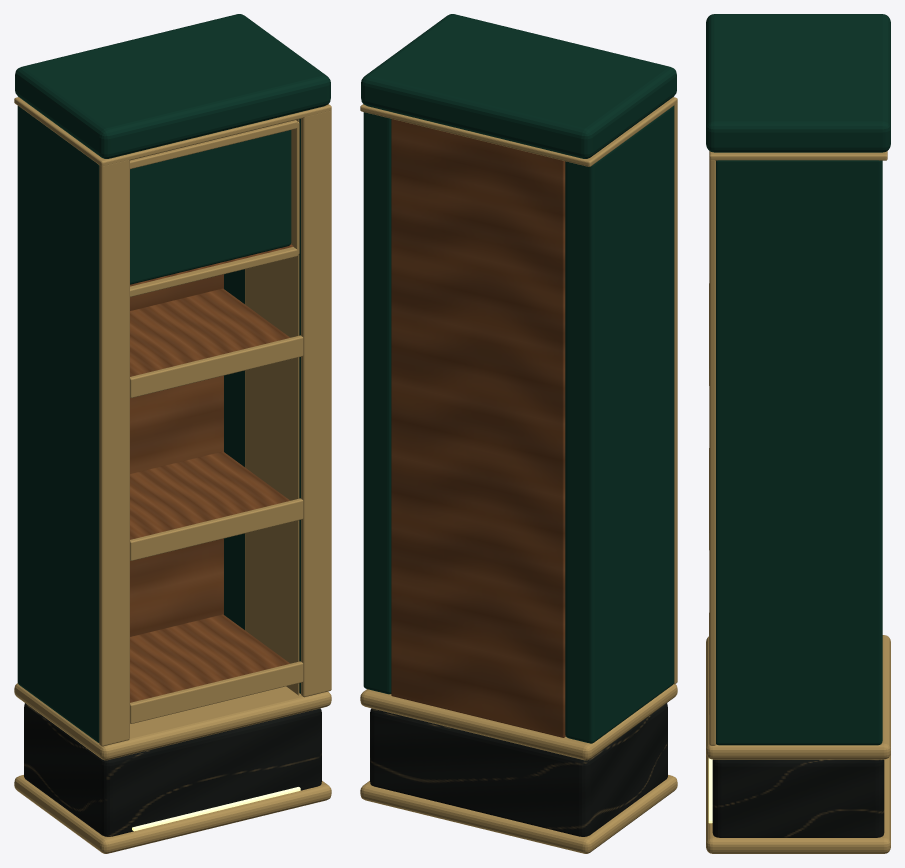
3 renders of one model, left to right at view 1: azimuth 30°, elevation 25°; view 2: azimuth 150°, elevation 25°; view 3: azimuth 270°, elevation 25°, orthographic.
Parts seen in each view (by area): view 1: cabinet_left_pillar, cabinet_crown, cabinet_stone_base, brand_header_panel, trim_left_front, trim_right_front, trim_right_inner, cabinet_back, shelf_3, shelf_2, shelf_1, trim_base_top (+10 smaller); view 2: cabinet_back, cabinet_left_pillar, cabinet_crown, cabinet_stone_base, cabinet_right_pillar, trim_base_plinth, trim_base_top, trim_crown_lip, trim_left_front; view 3: cabinet_right_pillar, cabinet_crown, cabinet_stone_base, trim_right_front, trim_base_top, trim_base_plinth, trim_crown_lip.
Boxes of the visible parts, bbox=[...] form: cabinet_left_pillar: bbox=[17, 106, 99, 742]; cabinet_crown: bbox=[15, 14, 330, 158]; cabinet_stone_base: bbox=[24, 703, 321, 836]; brand_header_panel: bbox=[130, 130, 291, 284]; trim_left_front: bbox=[99, 160, 129, 746]; trim_right_front: bbox=[301, 110, 331, 697]; trim_right_inner: bbox=[245, 119, 299, 695]; cabinet_back: bbox=[130, 274, 223, 636]; shelf_3: bbox=[130, 288, 290, 376]; shelf_2: bbox=[130, 451, 290, 539]; shelf_1: bbox=[130, 614, 289, 702]; trim_base_top: bbox=[14, 683, 331, 760]; cabinet_back: bbox=[391, 119, 565, 737]; cabinet_left_pillar: bbox=[565, 106, 674, 743]; cabinet_crown: bbox=[361, 14, 676, 158]; cabinet_stone_base: bbox=[370, 703, 667, 836]; cabinet_right_pillar: bbox=[363, 112, 391, 694]; trim_base_plinth: bbox=[360, 775, 677, 853]; trim_base_top: bbox=[360, 684, 677, 760]; trim_crown_lip: bbox=[360, 97, 677, 166]; trim_left_front: bbox=[673, 103, 677, 684]; cabinet_right_pillar: bbox=[716, 160, 882, 745]; cabinet_crown: bbox=[706, 14, 890, 152]; cabinet_stone_base: bbox=[712, 759, 884, 837]; trim_right_front: bbox=[709, 159, 715, 745]; trim_base_top: bbox=[706, 635, 890, 759]; trim_base_plinth: bbox=[706, 753, 890, 853]; trim_crown_lip: bbox=[709, 151, 887, 160].
Size of the model in its own units: 0.8 by 2.4 by 0.55.
Materials: 5 (2 with a texture image).
